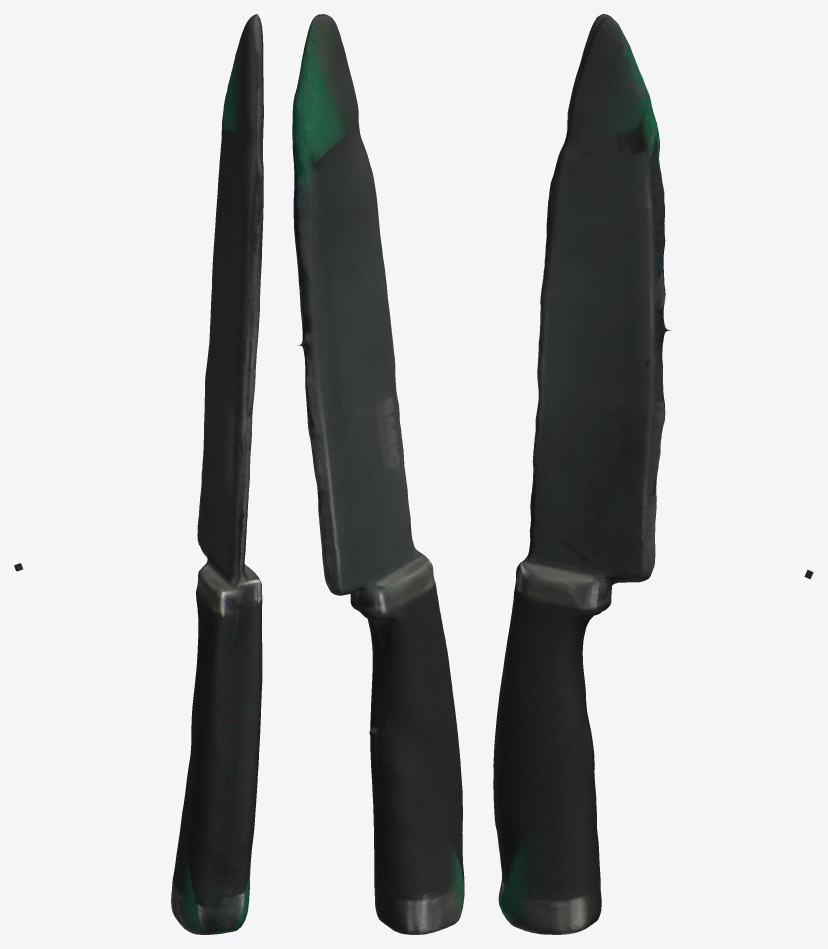
3 renders of one model, left to right at view 1: azimuth 30°, elevation 25°; view 2: azimuth 150°, elevation 25°; view 3: azimuth 270°, elevation 25°, orthographic. The views are drawn at different scales.
Visible parts, largest first — view 1: geometry_0; view 2: geometry_0; view 3: geometry_0.
Part boxes in pixels (x1,y1,x2,y2): geometry_0: (14, 14, 263, 934); geometry_0: (292, 14, 464, 934); geometry_0: (493, 14, 813, 934).
Bounding box in the file's own units: 0.0606 × 0.3214 × 0.0985.
Materials: 1 (1 with a texture image).
